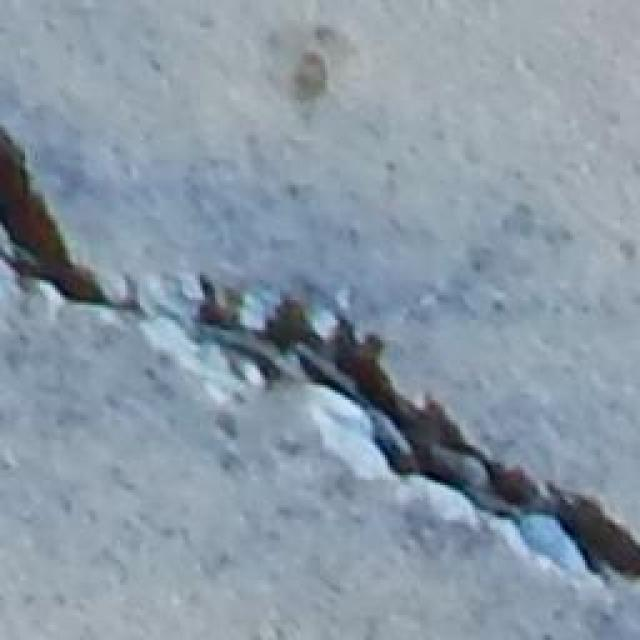concrete-crack: (1, 128, 640, 590)
